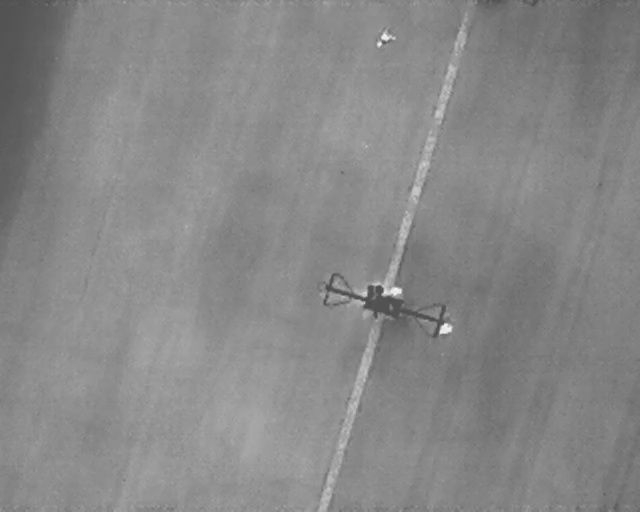Person: (370, 24, 399, 54), (381, 284, 405, 297), (438, 322, 454, 336)
